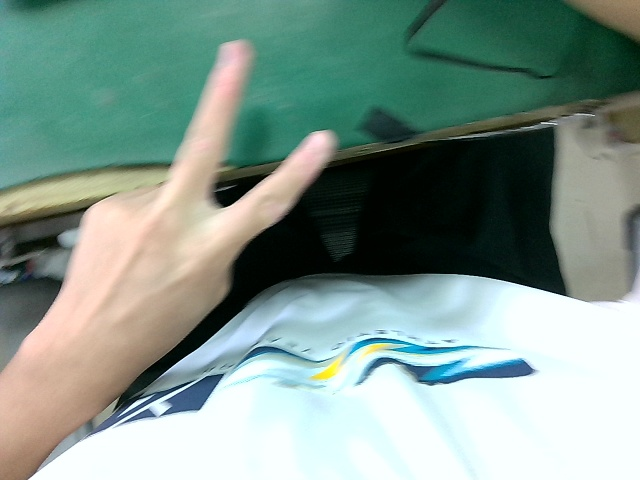scissor: (55, 32, 335, 360)
